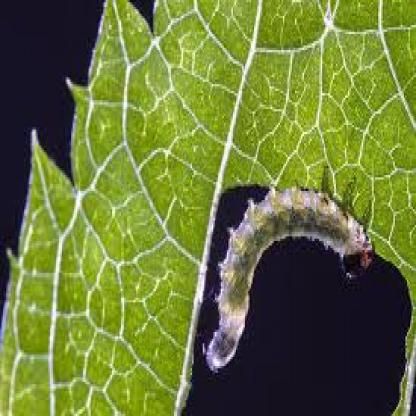sawfly: (200, 161, 376, 383)
